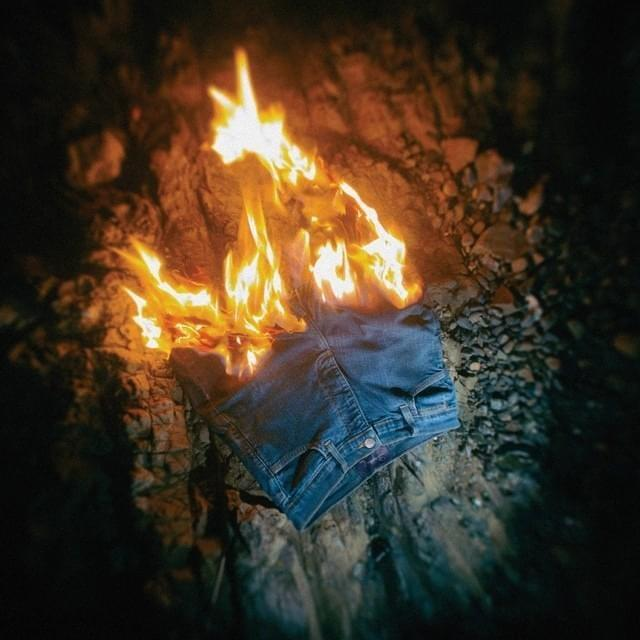Fire: (101, 40, 443, 377)
